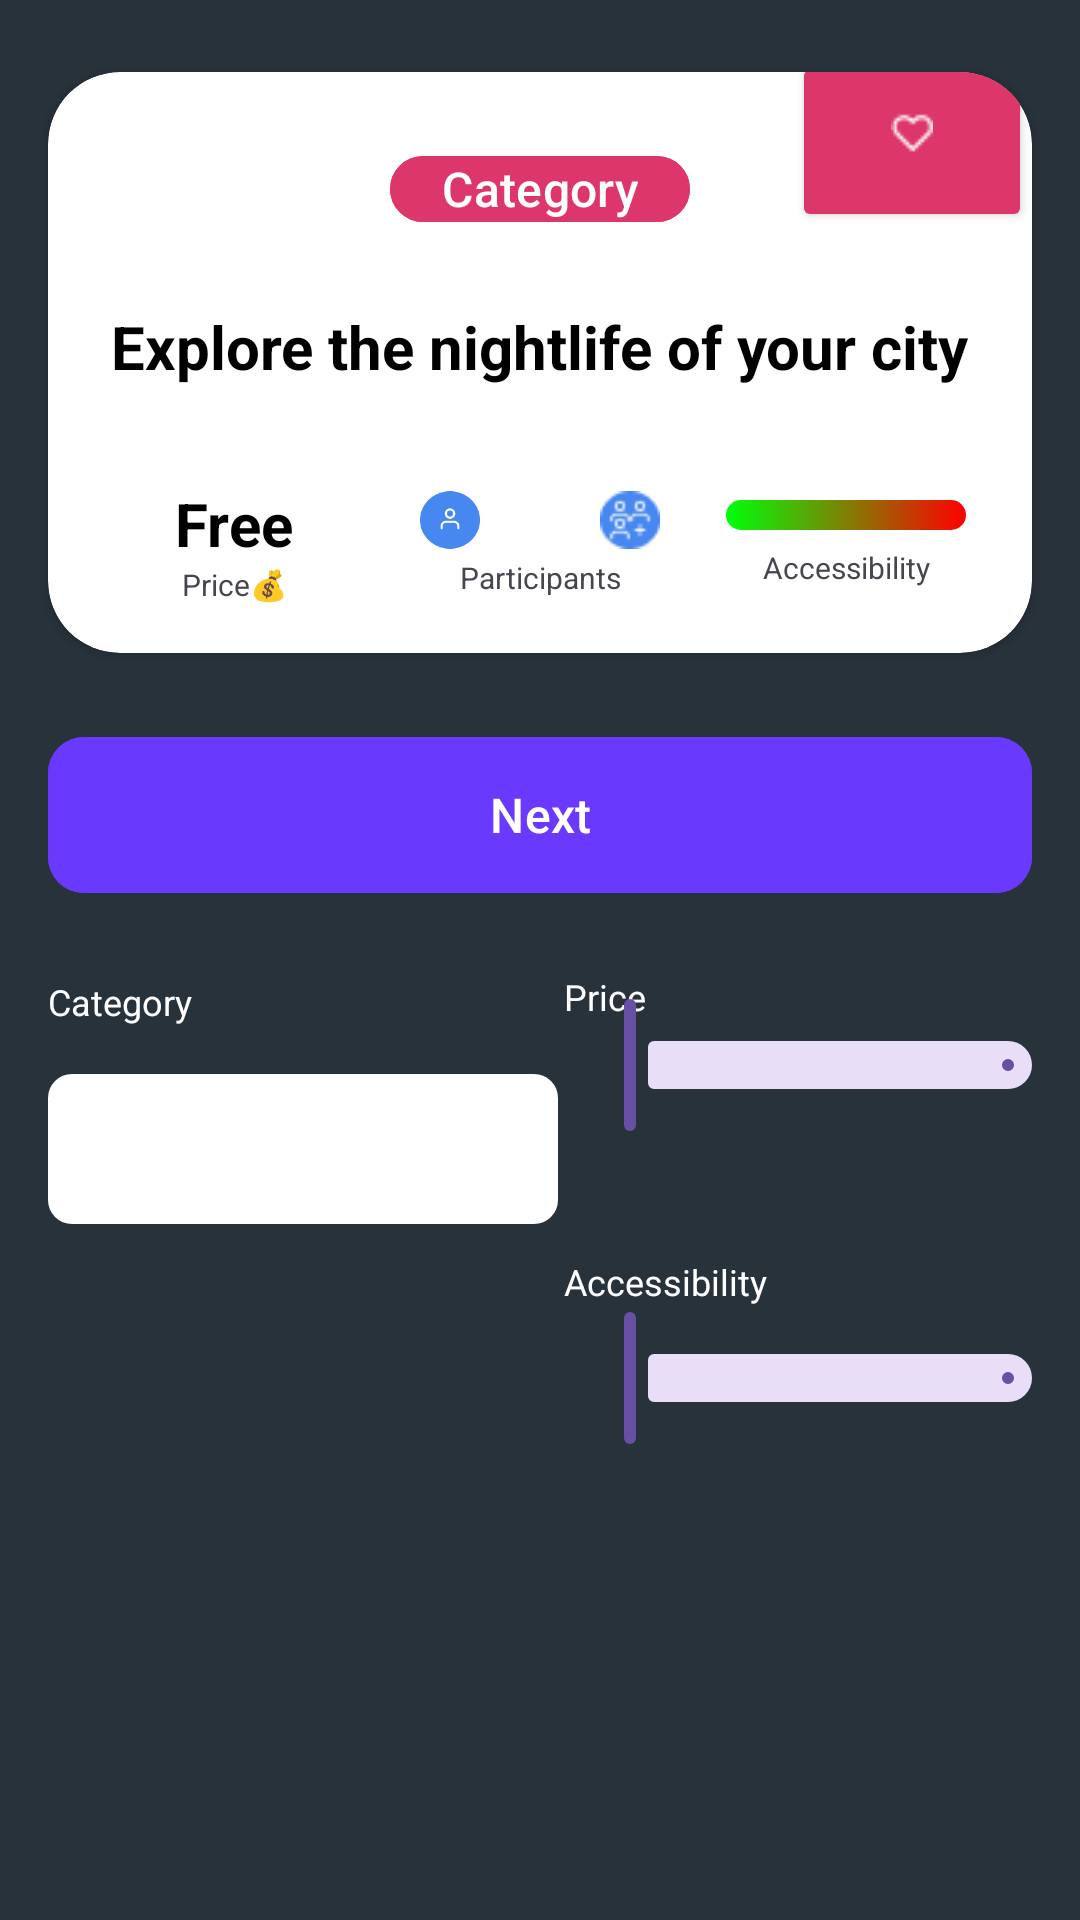

Icons on this 1080 x 1920 Android screen, each with its box as (x1, y1, x2, y2):
one user: (420, 491, 480, 549)
